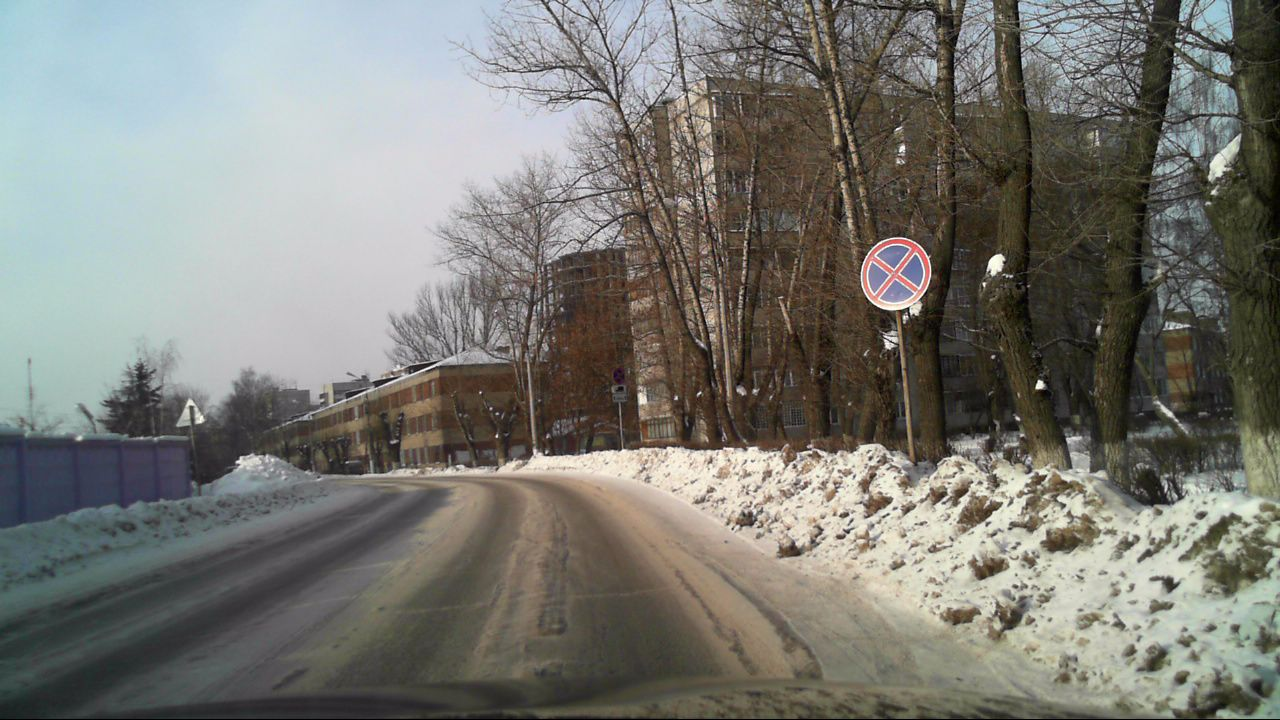No Parking: (860, 236, 930, 310)
